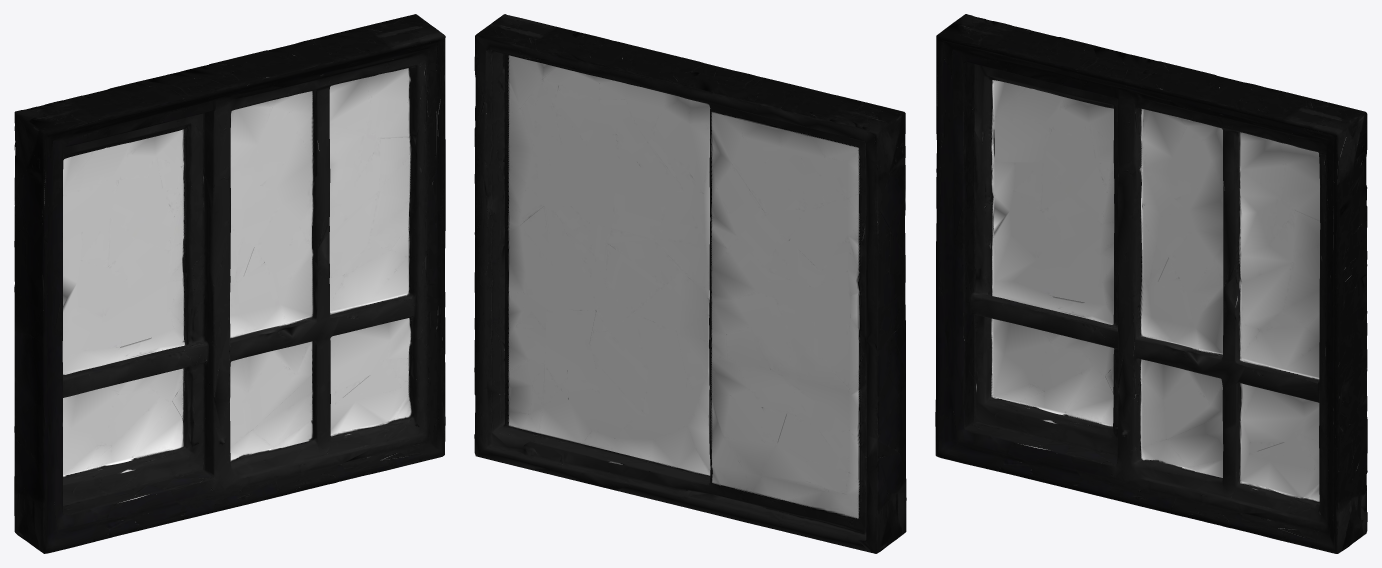
The model's file is window.glb.
3 renders of one model, left to right at view 1: azimuth 30°, elevation 25°; view 2: azimuth 150°, elevation 25°; view 3: azimuth 330°, elevation 25°, orthographic.
Size of the model in its own units: 2.01 by 2.01 by 0.261.
Materials: 1 (1 with a texture image).
